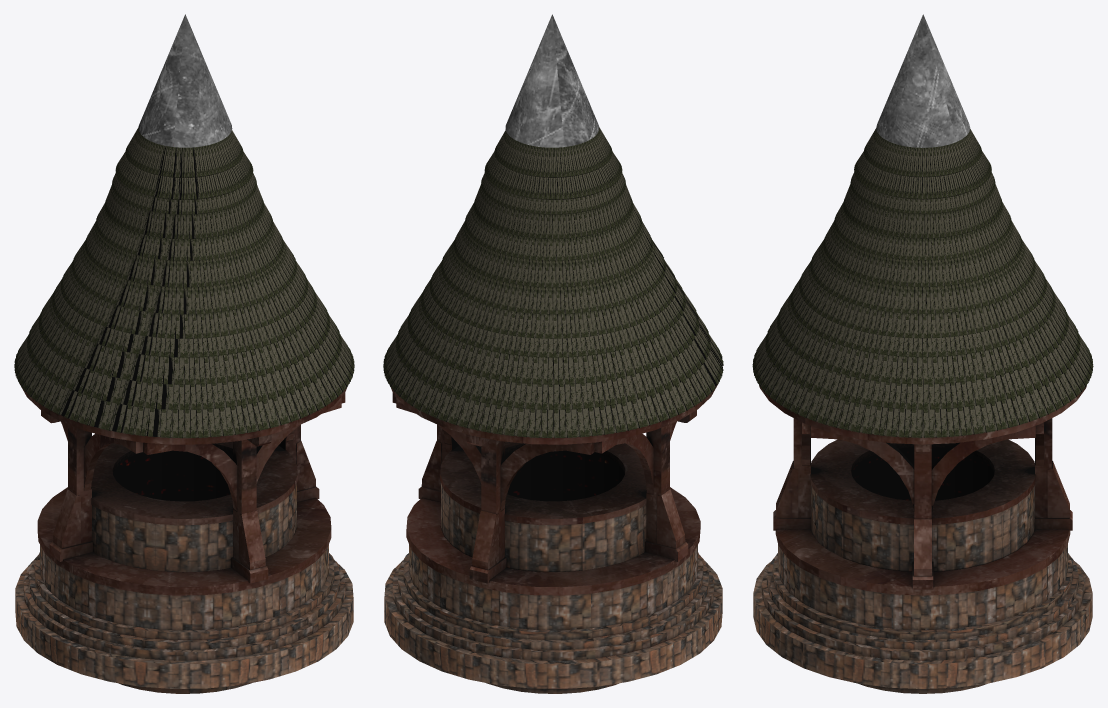
The picture shows the model from 3 angles, left to right: view 1: azimuth 30°, elevation 25°; view 2: azimuth 150°, elevation 25°; view 3: azimuth 270°, elevation 25°; orthographic projection.
Parts seen in each view (by area): view 1: Cube.002; view 2: Cube.002; view 3: Cube.002.
Part boxes in pixels (bbox=[...]): Cube.002: bbox=[14, 14, 354, 693]; Cube.002: bbox=[383, 14, 723, 693]; Cube.002: bbox=[752, 14, 1093, 693].
Size of the model in its own units: 71.05 by 147 by 71.05.
1 material, 1 textured.
